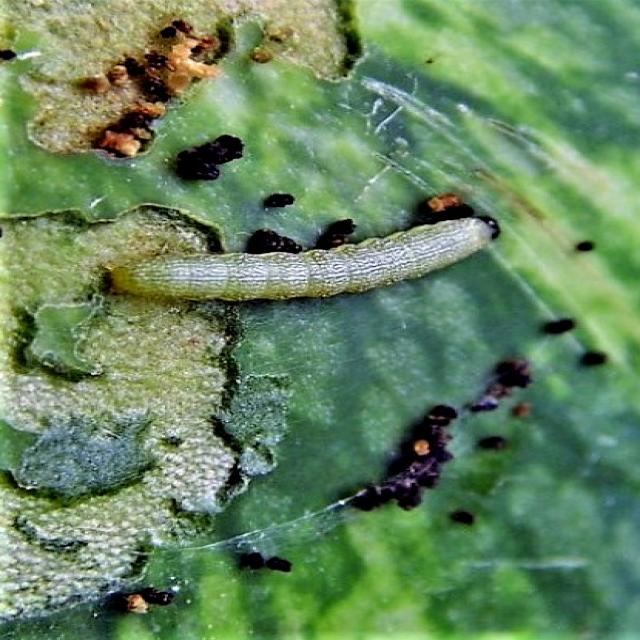armyworm: (106, 213, 500, 302)
